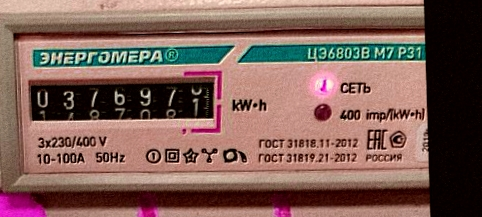0: (34, 87, 51, 108)
1: (191, 96, 202, 118)
3: (61, 88, 76, 111)
6: (113, 85, 127, 106)
7: (87, 84, 101, 109), (164, 84, 178, 107)
9: (138, 85, 152, 107)
screen: (22, 68, 227, 142)
